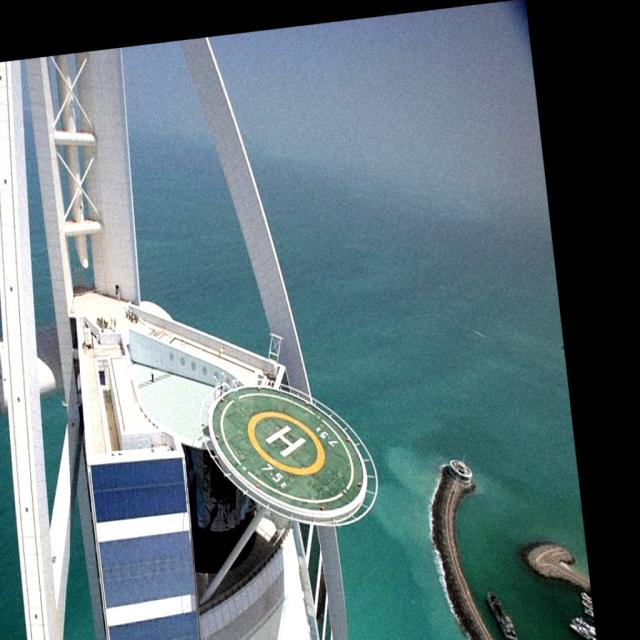helipad: (242, 407, 328, 478)
